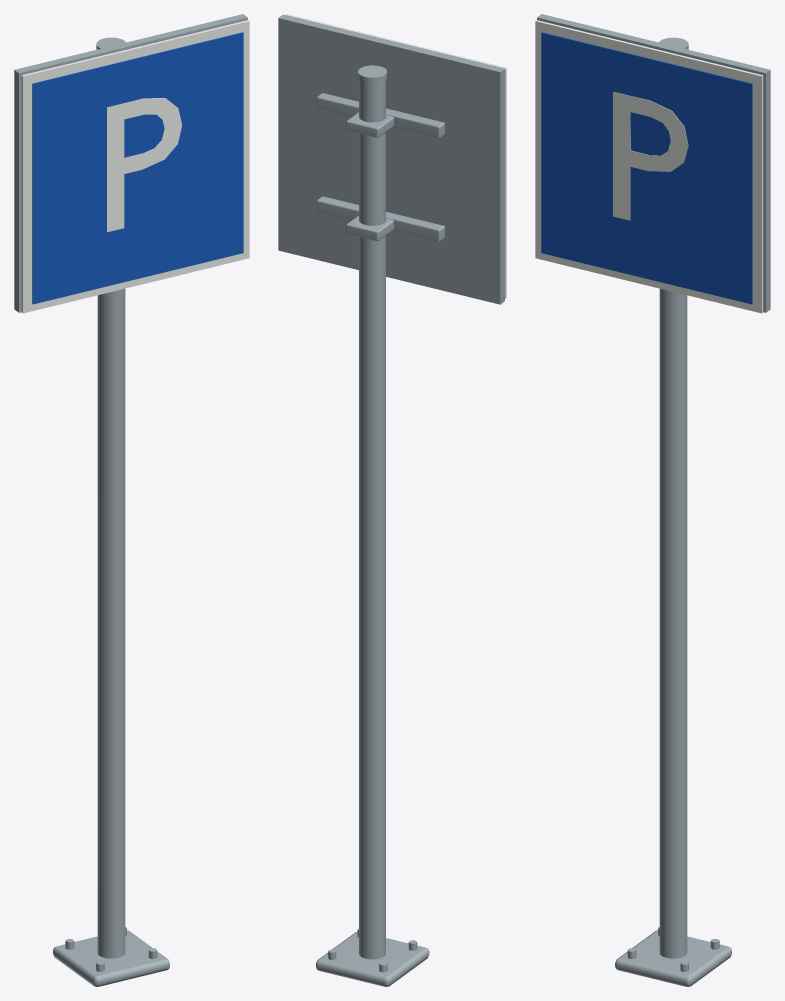
File: DS_Sign_Parking.glb
3 renders of one model, left to right at view 1: azimuth 30°, elevation 25°; view 2: azimuth 150°, elevation 25°; view 3: azimuth 330°, elevation 25°, orthographic. The views are drawn at different scales.
Parts seen in each view (by area): view 1: Face_Field.008, Post.008, Face_Border.008, Legend_P, Plate_Back.008, BasePlate.008; view 2: Plate_Back.008, Post.008, BasePlate.008, RearRail.016, RearRail.017, Face_Border.008, PostClamp.016, PostClamp.017; view 3: Face_Field.008, Post.008, Face_Border.008, Legend_P, Plate_Back.008, BasePlate.008.
Boxes of the visible parts, x1,y1,x2,y2 form: Face_Field.008: (32, 32, 243, 304); Post.008: (97, 288, 125, 958); Face_Border.008: (21, 20, 249, 313); Legend_P: (107, 98, 182, 232); Plate_Back.008: (14, 14, 247, 312); BasePlate.008: (53, 930, 169, 986); Plate_Back.008: (278, 14, 504, 304); Post.008: (359, 79, 385, 959); BasePlate.008: (316, 932, 429, 986); RearRail.016: (316, 196, 444, 241); RearRail.017: (316, 93, 444, 138); Face_Border.008: (285, 14, 506, 298); PostClamp.016: (346, 215, 393, 241); PostClamp.017: (346, 112, 393, 137); Face_Field.008: (541, 32, 752, 304); Post.008: (659, 288, 687, 958); Face_Border.008: (535, 20, 763, 313); Legend_P: (613, 91, 688, 220); Plate_Back.008: (537, 14, 770, 312); BasePlate.008: (615, 930, 731, 986).
Size of the model in its own units: 0.72 by 2.81 by 0.2727.
